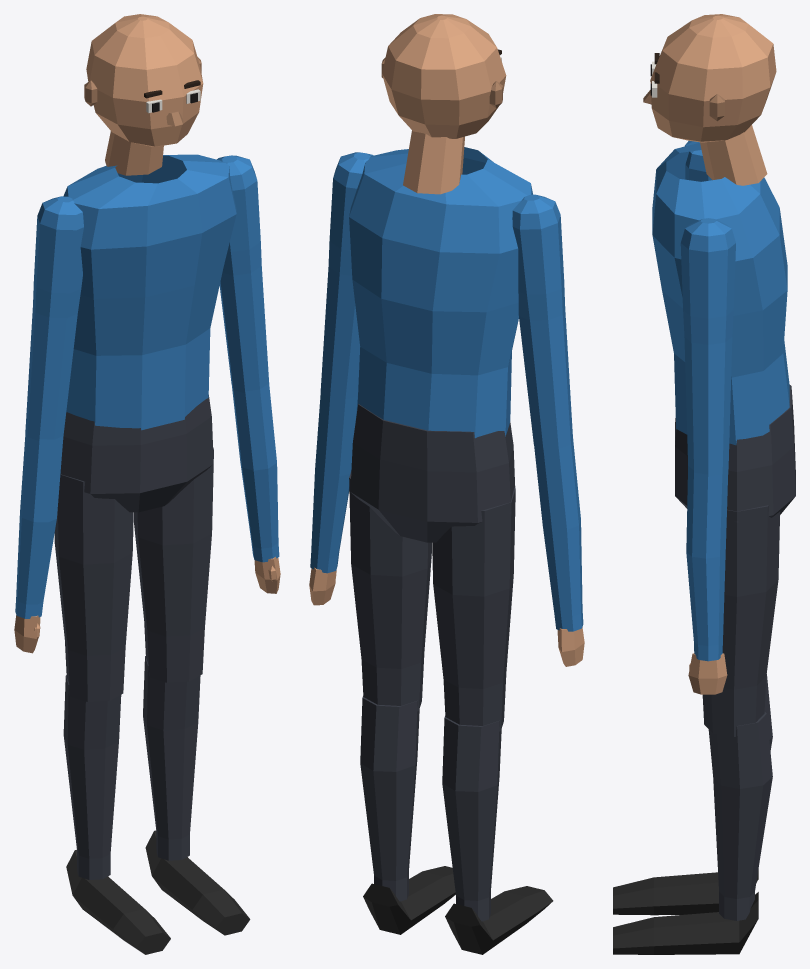
Rendered from senior_h_mince.glb.
3 views of the same model, side by side, from view 1: azimuth 30°, elevation 25°; view 2: azimuth 150°, elevation 25°; view 3: azimuth 270°, elevation 25° (orthographic). The views are drawn at different scales.
Parts seen in each view (by area): view 1: torse, jambe_d, tete, jambe_g, tibia_d, tibia_g, bassin, bras_d, bras_g, avant_bras_d, avant_bras_g; view 2: torse, bassin, tete, jambe_d, tibia_d, jambe_g, tibia_g, bras_d, avant_bras_d, bras_g, avant_bras_g; view 3: torse, tete, tibia_g, bras_g, jambe_g, avant_bras_g, bassin, tibia_d, bras_d.
Part boxes in pixels (<box>): torse: <box>63,154,236,430</box>; jambe_d: <box>54,474,133,701</box>; tete: <box>84,14,203,175</box>; jambe_g: <box>134,447,213,682</box>; tibia_d: <box>63,675,170,954</box>; tibia_g: <box>143,656,250,935</box>; bassin: <box>60,395,213,512</box>; bras_d: <box>25,196,83,440</box>; bras_g: <box>217,155,269,393</box>; avant_bras_d: <box>14,433,63,653</box>; avant_bras_g: <box>232,383,280,593</box>; torse: <box>349,147,532,438</box>; bassin: <box>350,404,515,542</box>; tete: <box>381,14,506,194</box>; jambe_d: <box>432,487,515,731</box>; tibia_d: <box>442,716,553,954</box>; jambe_g: <box>349,471,431,711</box>; tibia_g: <box>360,696,455,934</box>; bras_d: <box>512,194,572,449</box>; avant_bras_d: <box>534,438,584,666</box>; bras_g: <box>320,152,373,399</box>; avant_bras_g: <box>309,391,357,605</box>; torse: <box>652,142,789,445</box>; tete: <box>643,14,776,185</box>; tibia_g: <box>613,712,772,954</box>; bras_g: <box>680,218,735,475</box>; jambe_g: <box>702,505,780,736</box>; avant_bras_g: <box>686,466,728,694</box>; bassin: <box>675,385,795,522</box>; tibia_d: <box>613,674,772,915</box>; bras_d: <box>685,141,712,181</box>.
Size of the model in its own units: 0.5204 by 1.69 by 0.3066.
1 material, 1 textured.
